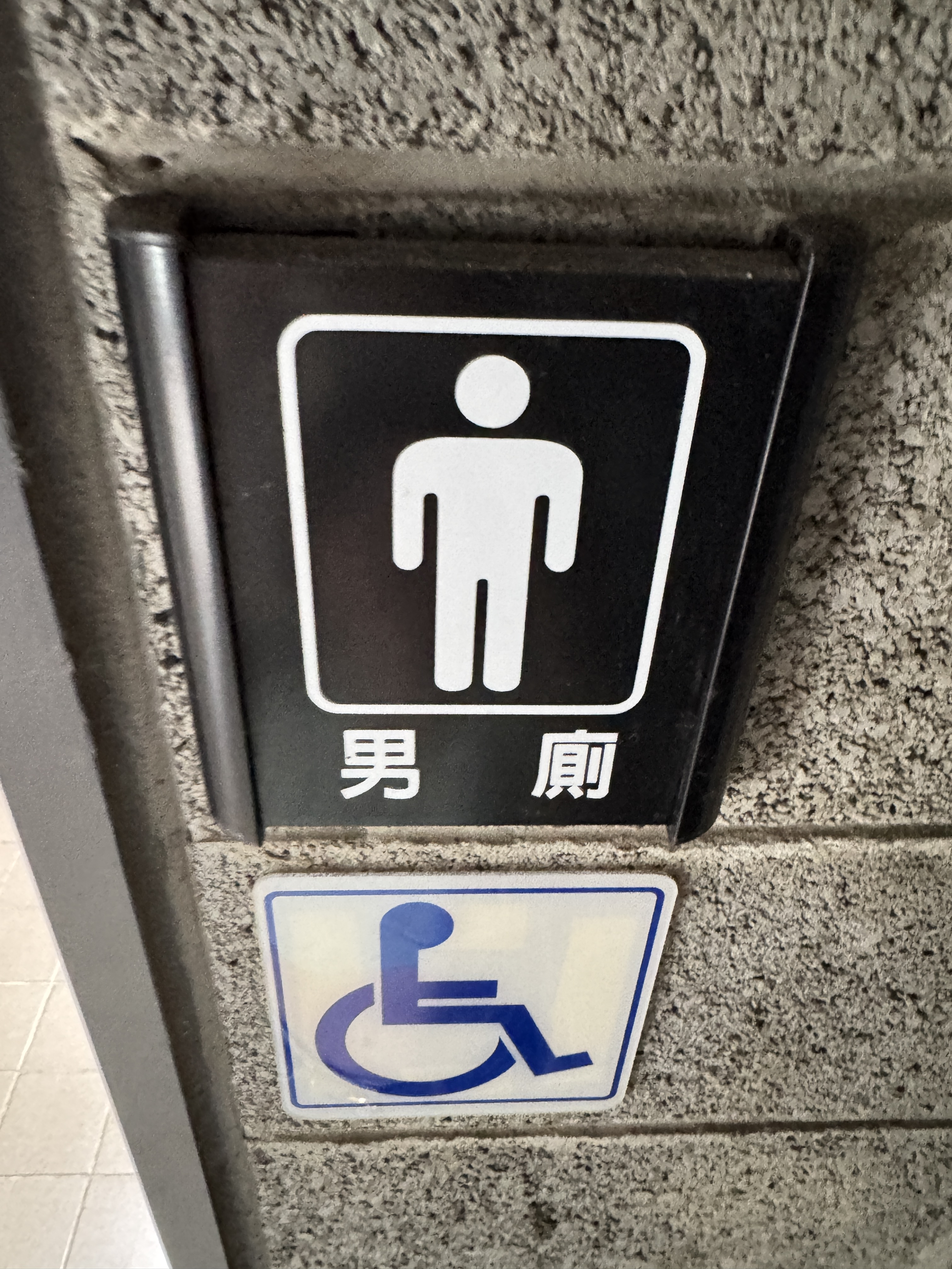toilet_sign: (103, 175, 863, 853)
